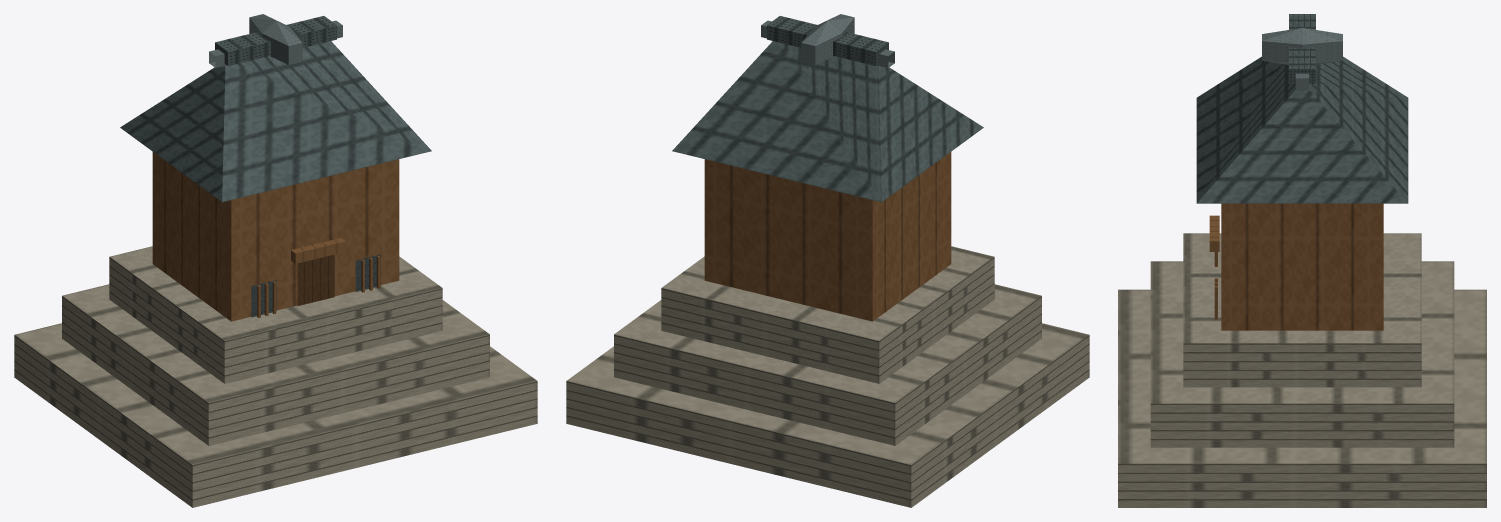
The model's file is domestic-BRONZE_TERRACE-1-lod1.glb.
3 renders of one model, left to right at view 1: azimuth 30°, elevation 25°; view 2: azimuth 150°, elevation 25°; view 3: azimuth 270°, elevation 25°, orthographic. The views are drawn at different scales.
Size of the model in its own units: 0.76 by 0.8 by 0.68.
Materials: 1 (1 with a texture image).
